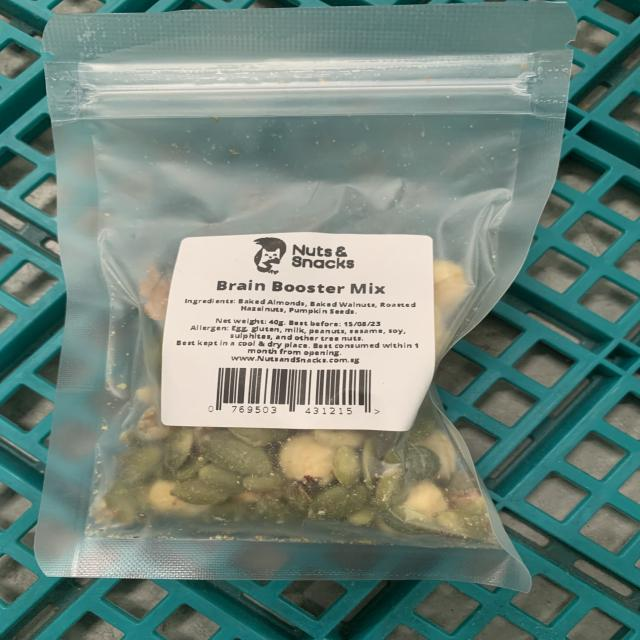object_name: (52, 16, 540, 578)
